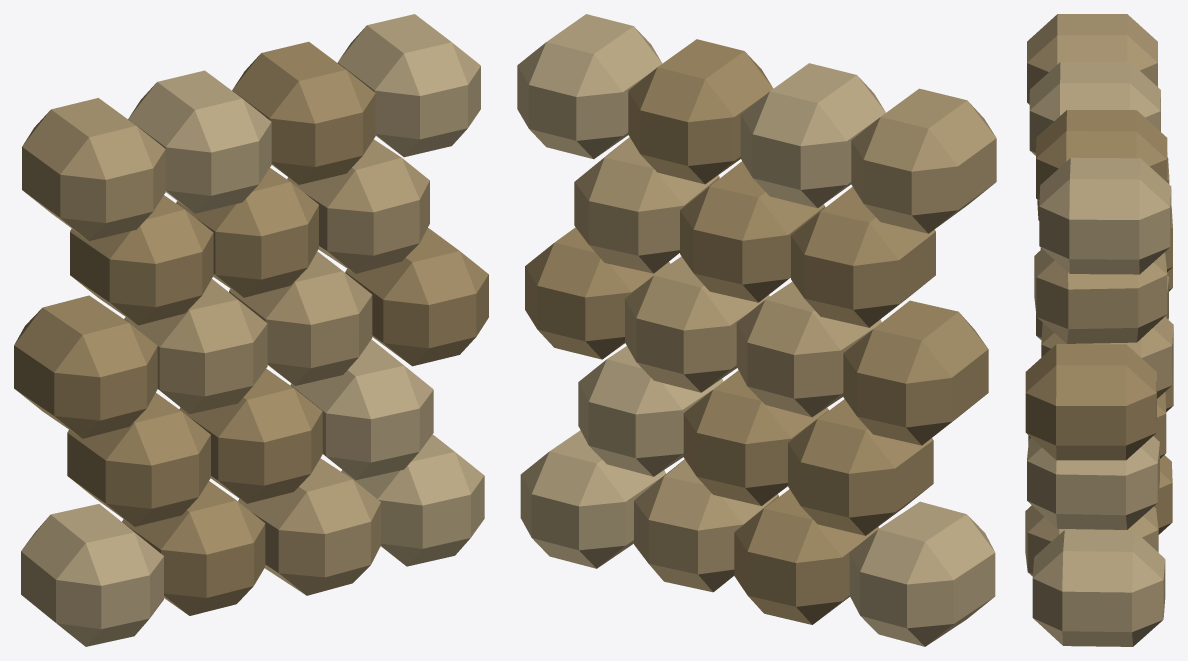
The model's file is wall_sandbag.glb.
3 views of the same model, side by side, from view 1: azimuth 30°, elevation 25°; view 2: azimuth 150°, elevation 25°; view 3: azimuth 270°, elevation 25° (orthographic). The views are drawn at different scales.
Visible parts, largest first — view 1: WallSandbag; view 2: WallSandbag; view 3: WallSandbag.
Boxes of the visible parts, <box> form: WallSandbag: <box>14,14,488,646</box>; WallSandbag: <box>517,14,996,646</box>; WallSandbag: <box>1025,14,1173,646</box>.
Size of the model in its own units: 1.04 by 1.18 by 0.3401.
